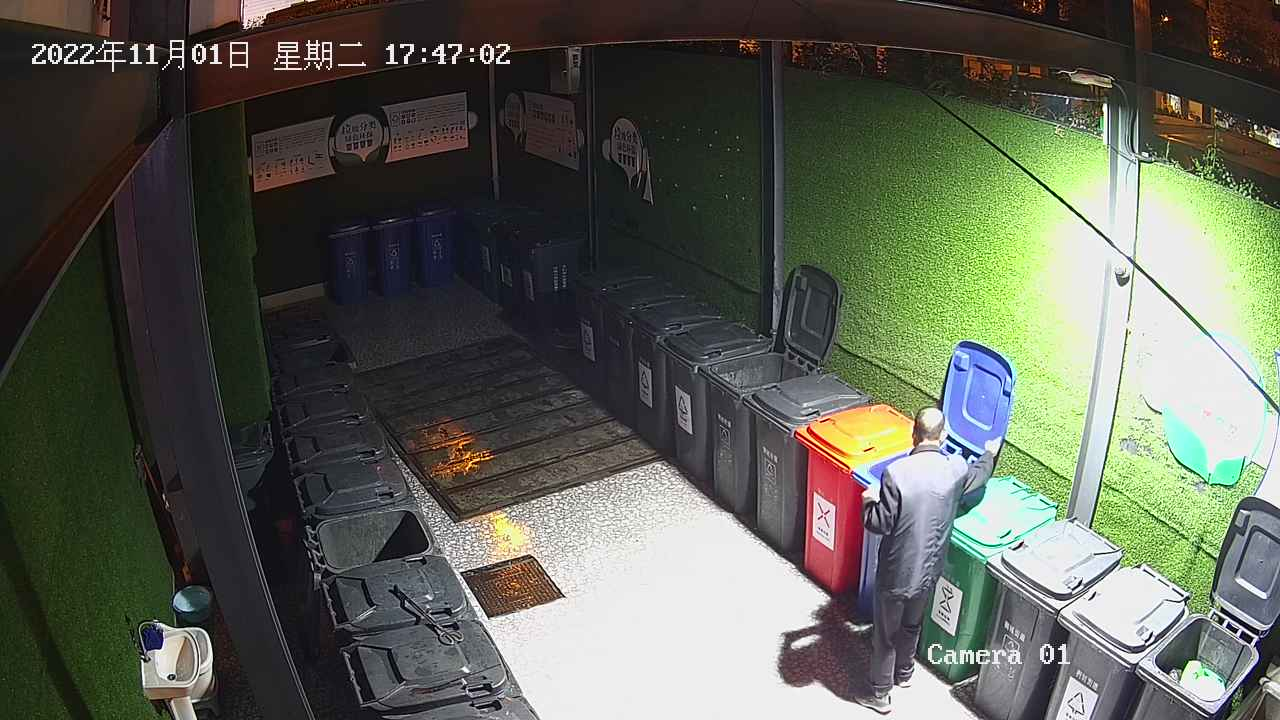person: (850, 407, 1003, 715)
